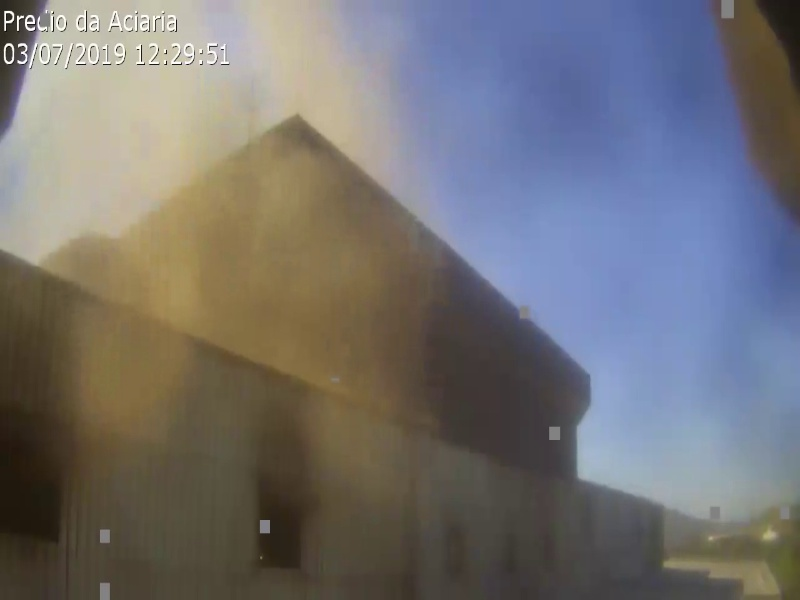Pessimo: (44, 76, 477, 484)
